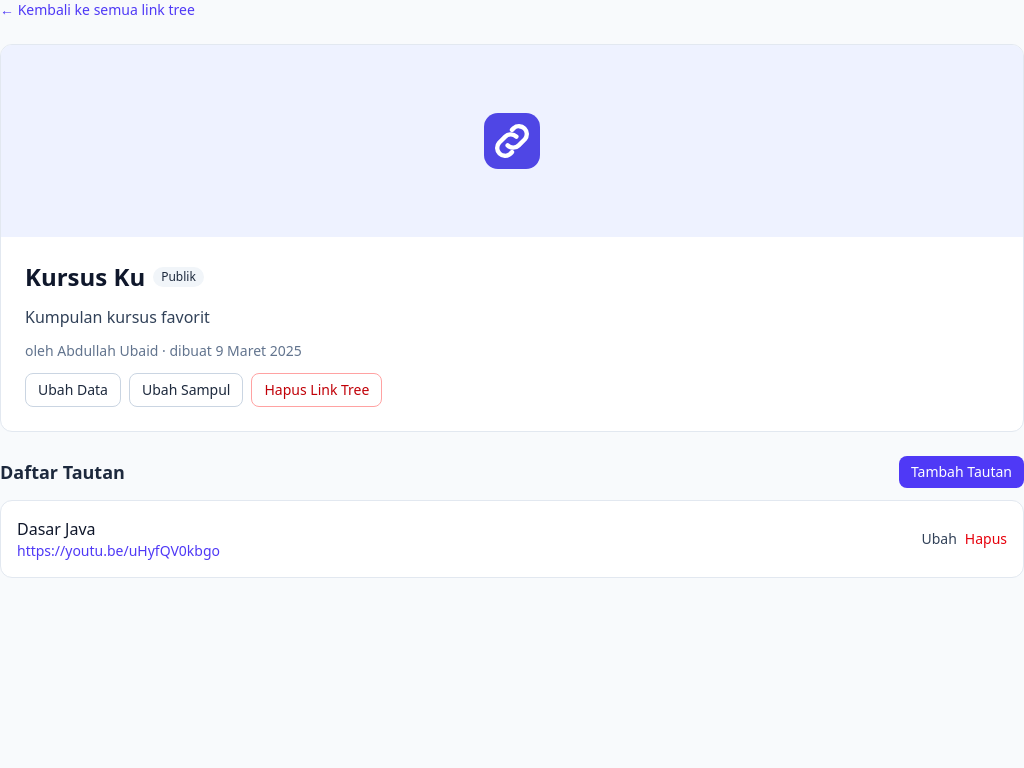
Scenario: DetailPage › mengubah data lewat modal
Step 1. Click the button "Ubah Data" → x=73, y=390, box [25,373,121,407]
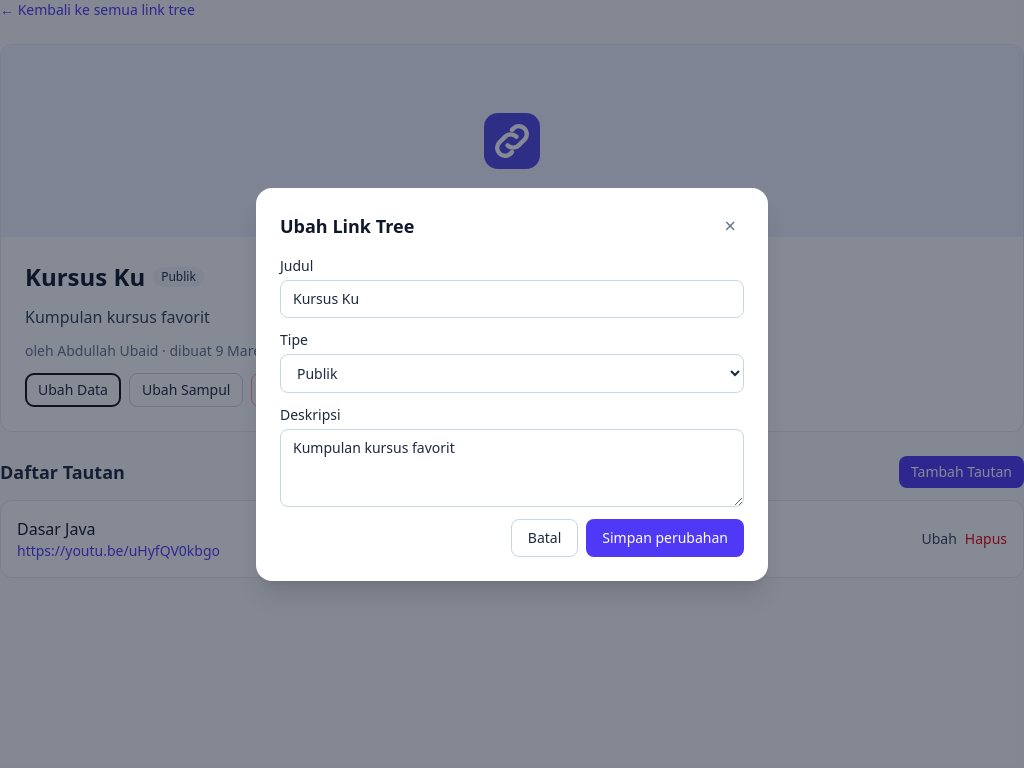
Step 2. Click the button "Simpan perubahan" → x=665, y=538, box [586,518,744,556]
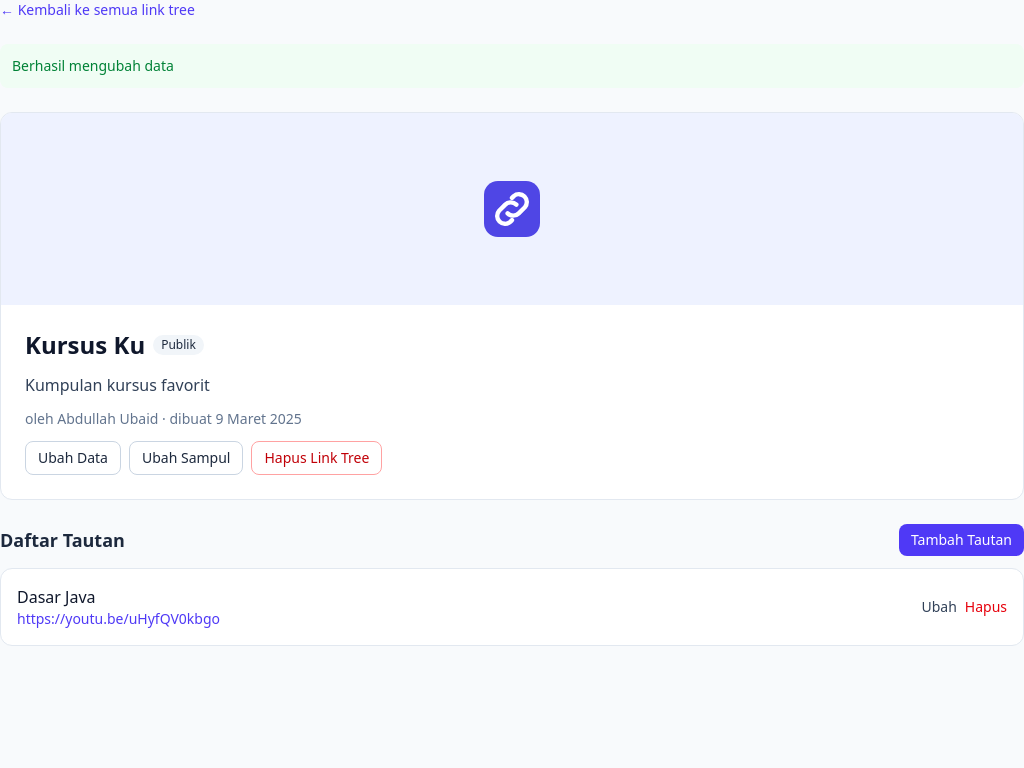
Check: the dialog is gone
Check: the message reads "Berhasil mengubah data", box [12,56,174,75]
